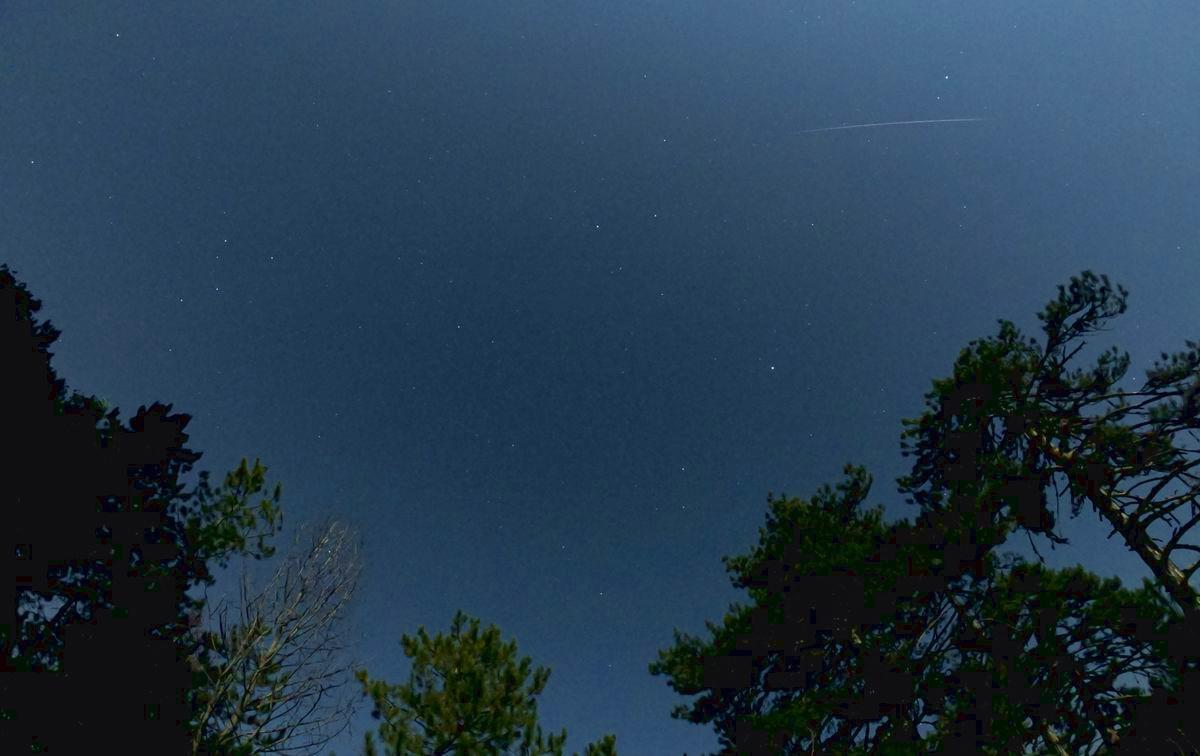meteorite: (804, 104, 1009, 145)
